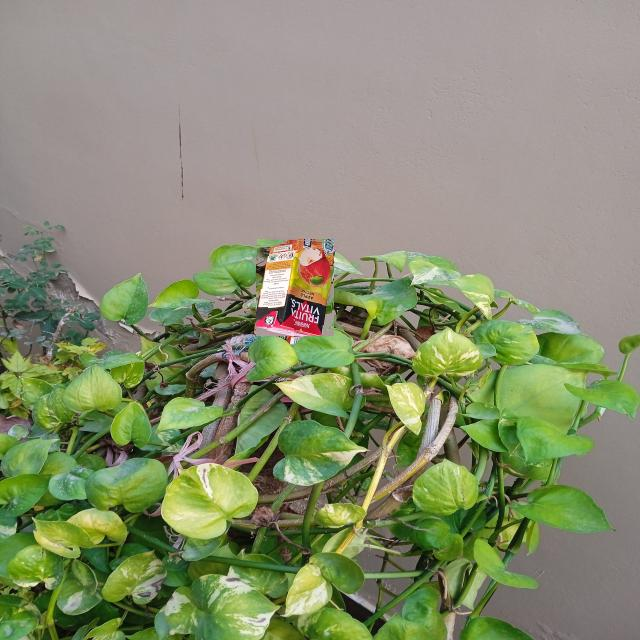Plastic: (256, 238, 334, 336)
